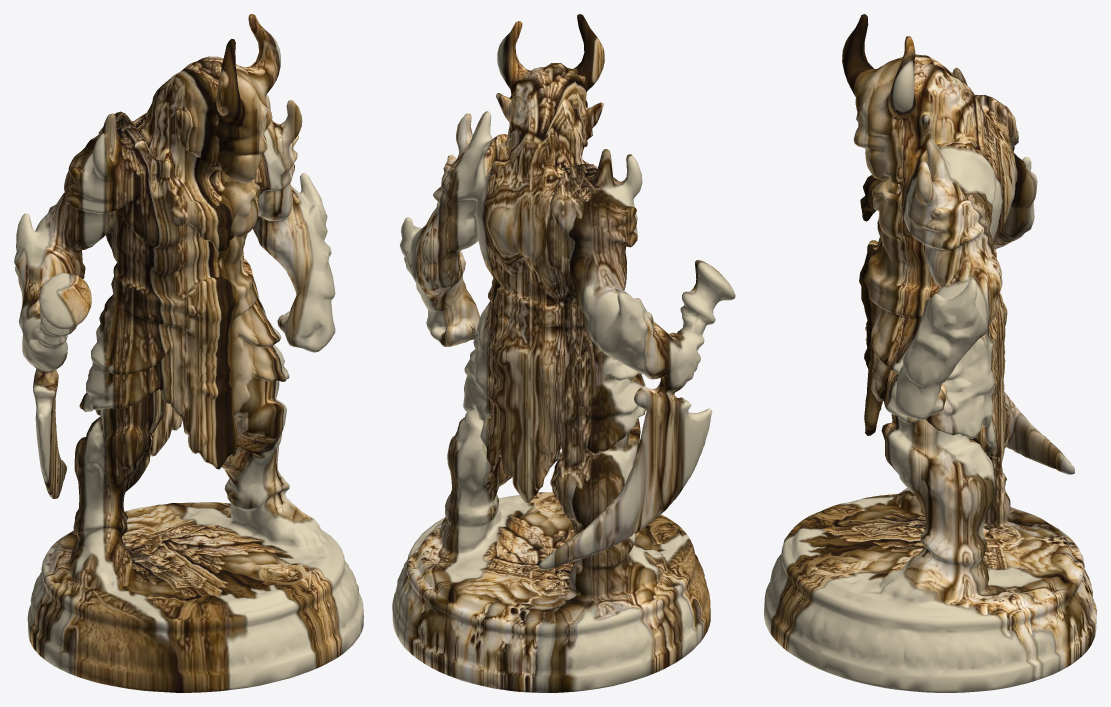
Rendered from padati.glb.
The picture shows the model from 3 angles, left to right: view 1: azimuth 30°, elevation 25°; view 2: azimuth 150°, elevation 25°; view 3: azimuth 270°, elevation 25°; orthographic projection. The views are drawn at different scales.
Visible parts, largest first — view 1: geometry_0; view 2: geometry_0; view 3: geometry_0.
Boxes of the visible parts, x1,y1,x2,y2 form: geometry_0: (14, 14, 363, 692); geometry_0: (392, 14, 735, 692); geometry_0: (764, 14, 1096, 692).
Size of the model in its own units: 1.07 by 1.99 by 0.9724.
Materials: 1 (1 with a texture image).
